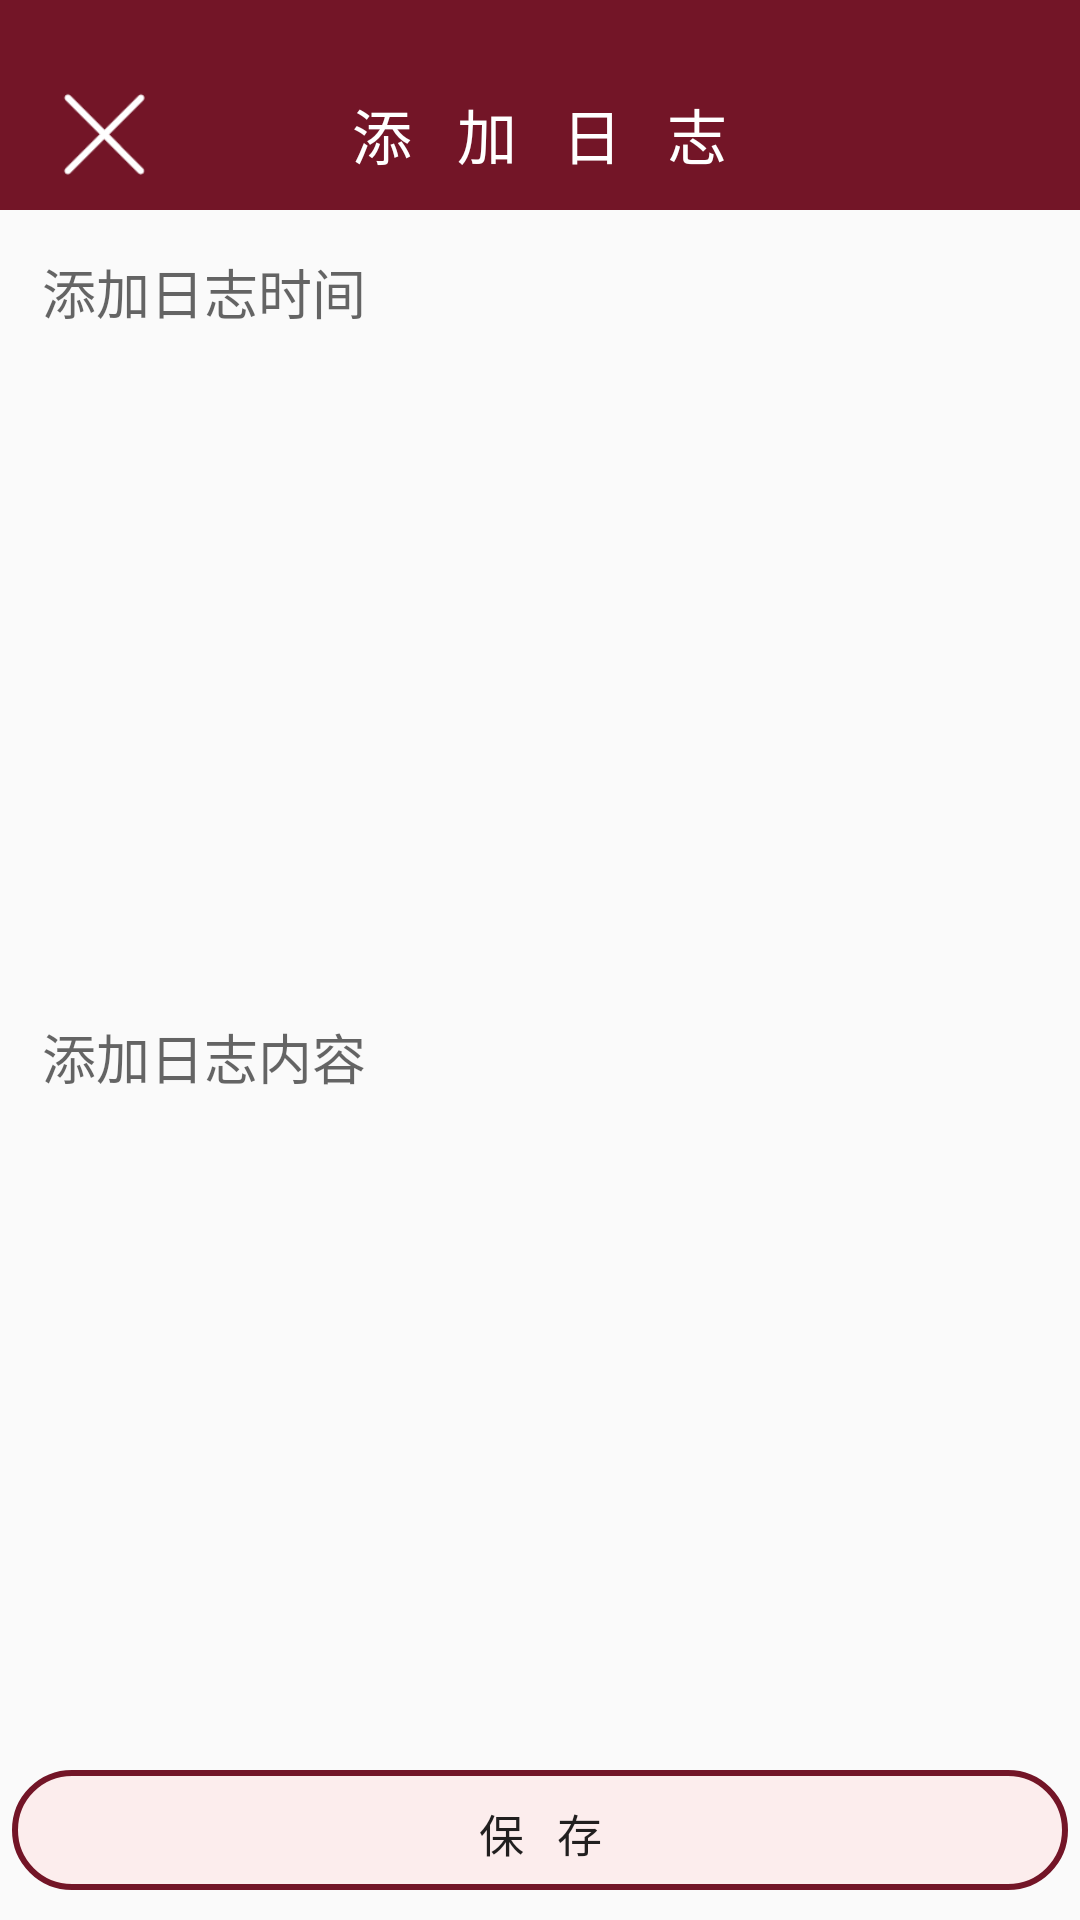

Icon bounding boxes for this 1080 x 1920 phone screenshot, format {"x1": x1, "y1": y1, "x2": x2, "y2": y2}:
back: {"x1": 64, "y1": 94, "x2": 145, "y2": 175}
